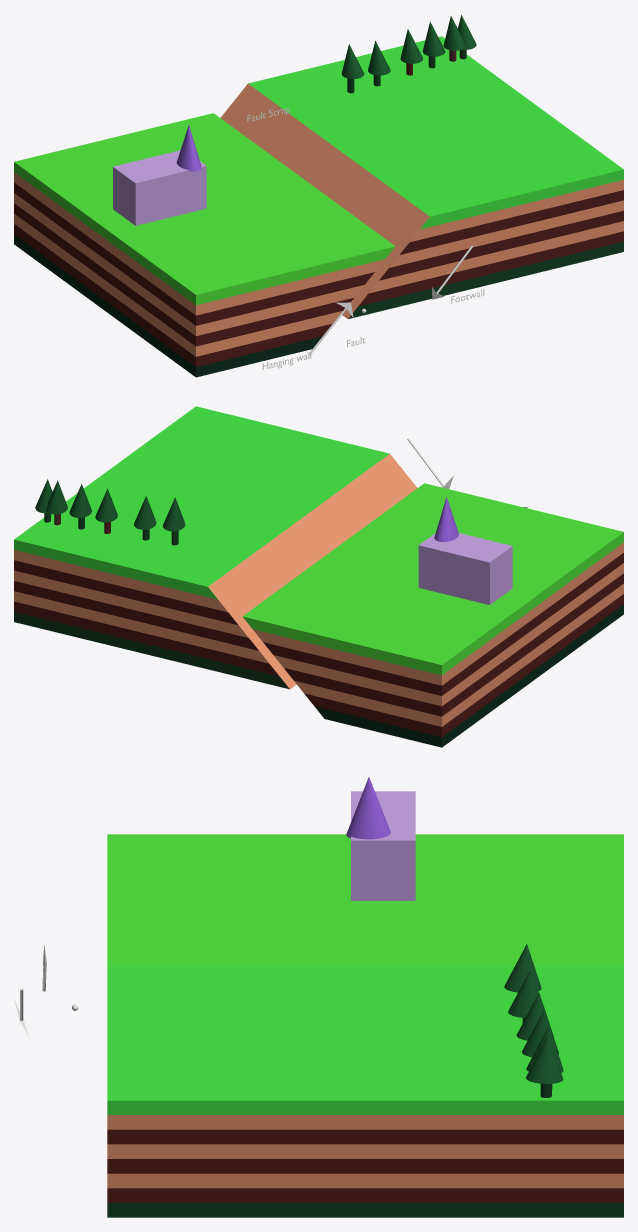
The model's file is Earthquake.gltf.
3 renders of one model, top to bottom at view 1: azimuth 30°, elevation 25°; view 2: azimuth 150°, elevation 25°; view 3: azimuth 270°, elevation 25°, orthographic. The views are drawn at different scales.
Parts seen in each view (by area): view 1: Cube.004, Cube.002, Cube.003, Cone, Cylinder.005, Cylinder.001, Cylinder.004, Cylinder, Cylinder.002; view 2: Cube.004, Cube.002, Cube.003, Cone, Cylinder.005, Cylinder.002, Cylinder.004, Cylinder.001, Cylinder; view 3: Cube.004, Cube.002, Cube.003, Cone, Cylinder.003, Cylinder.004, Cylinder.005, Cylinder.001, Cylinder.002.
Boxes of the visible parts, box(x1,y1,x2,y2) form: Cube.004: box(220, 36, 623, 318); Cube.002: box(14, 113, 395, 377); Cube.003: box(113, 150, 206, 225); Cone: box(176, 125, 201, 171); Cylinder.005: box(341, 44, 364, 93); Cylinder.001: box(422, 21, 445, 68); Cylinder.004: box(368, 40, 390, 86); Cylinder: box(443, 16, 465, 61); Cylinder.002: box(400, 29, 422, 75); Cube.004: box(14, 406, 417, 689); Cube.002: box(242, 483, 623, 747); Cube.003: box(418, 533, 512, 604); Cone: box(434, 497, 458, 542); Cylinder.005: box(163, 497, 185, 545); Cylinder.002: box(95, 488, 117, 533); Cylinder.004: box(134, 496, 156, 540); Cylinder.001: box(69, 484, 91, 529); Cylinder: box(46, 480, 67, 525); Cube.004: box(107, 966, 623, 1217); Cube.002: box(107, 834, 623, 966); Cube.003: box(351, 791, 415, 900); Cone: box(346, 777, 390, 839); Cylinder.003: box(526, 1035, 563, 1097); Cylinder.004: box(508, 969, 538, 1022); Cylinder.005: box(504, 944, 541, 992); Cylinder.001: box(522, 1009, 559, 1057); Cylinder.002: box(516, 992, 553, 1040).
Bounding box in the file's own units: 21.94 × 8.47 × 18.89.
